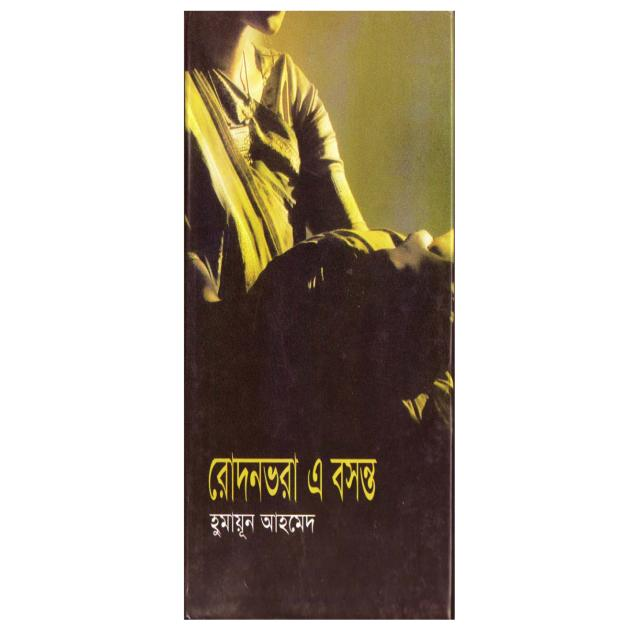image: (184, 12, 457, 620)
text: (201, 512, 321, 545)
title: (201, 448, 382, 516)
